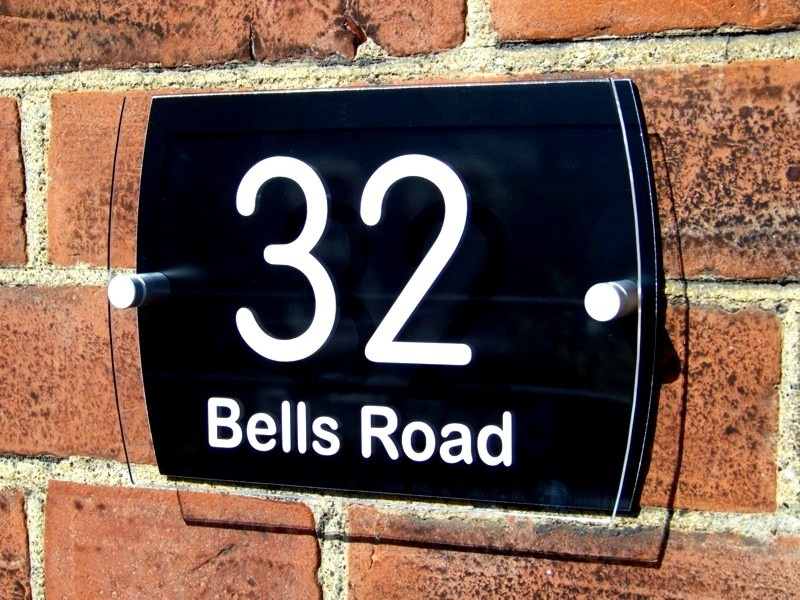text: (241, 153, 256, 368), (257, 153, 272, 368), (273, 153, 288, 368), (289, 153, 304, 368), (305, 153, 320, 368), (321, 153, 336, 368), (337, 153, 352, 368), (353, 153, 368, 368), (369, 153, 384, 368), (385, 153, 400, 368), (401, 153, 416, 368), (417, 153, 432, 368), (433, 153, 448, 368), (449, 153, 464, 368), (465, 153, 475, 368), (235, 153, 240, 368), (369, 406, 384, 473), (385, 406, 400, 473), (401, 406, 416, 473), (417, 406, 432, 473), (433, 406, 448, 473), (449, 406, 464, 473), (465, 406, 480, 473), (481, 406, 496, 473), (497, 406, 512, 473), (209, 396, 224, 460), (225, 396, 240, 460), (241, 396, 256, 460), (257, 396, 272, 460), (273, 396, 288, 460), (289, 396, 304, 460), (305, 396, 320, 460), (321, 396, 336, 460), (361, 406, 368, 473), (337, 396, 344, 460), (513, 406, 519, 473), (207, 396, 208, 460)
